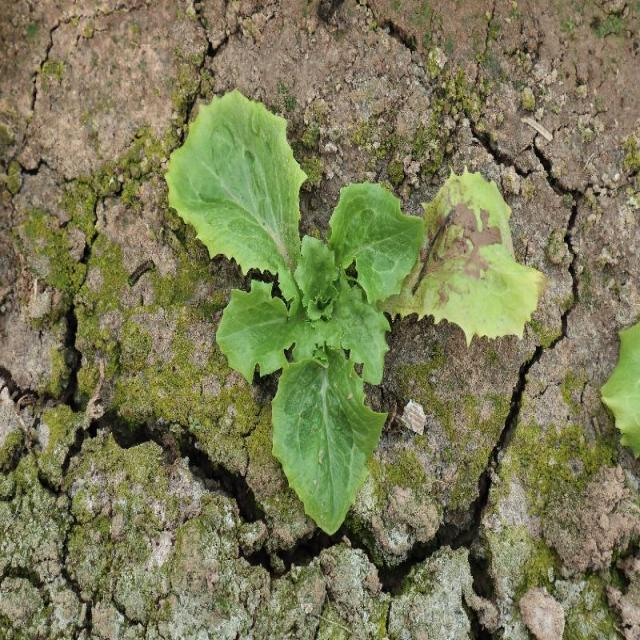crop: (166, 91, 541, 537)
